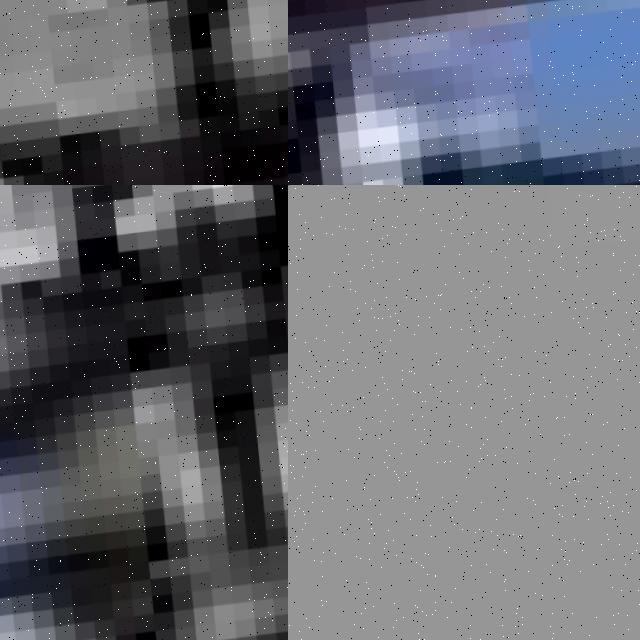drone: (0, 185, 288, 640), (288, 0, 640, 185), (0, 0, 288, 185)
